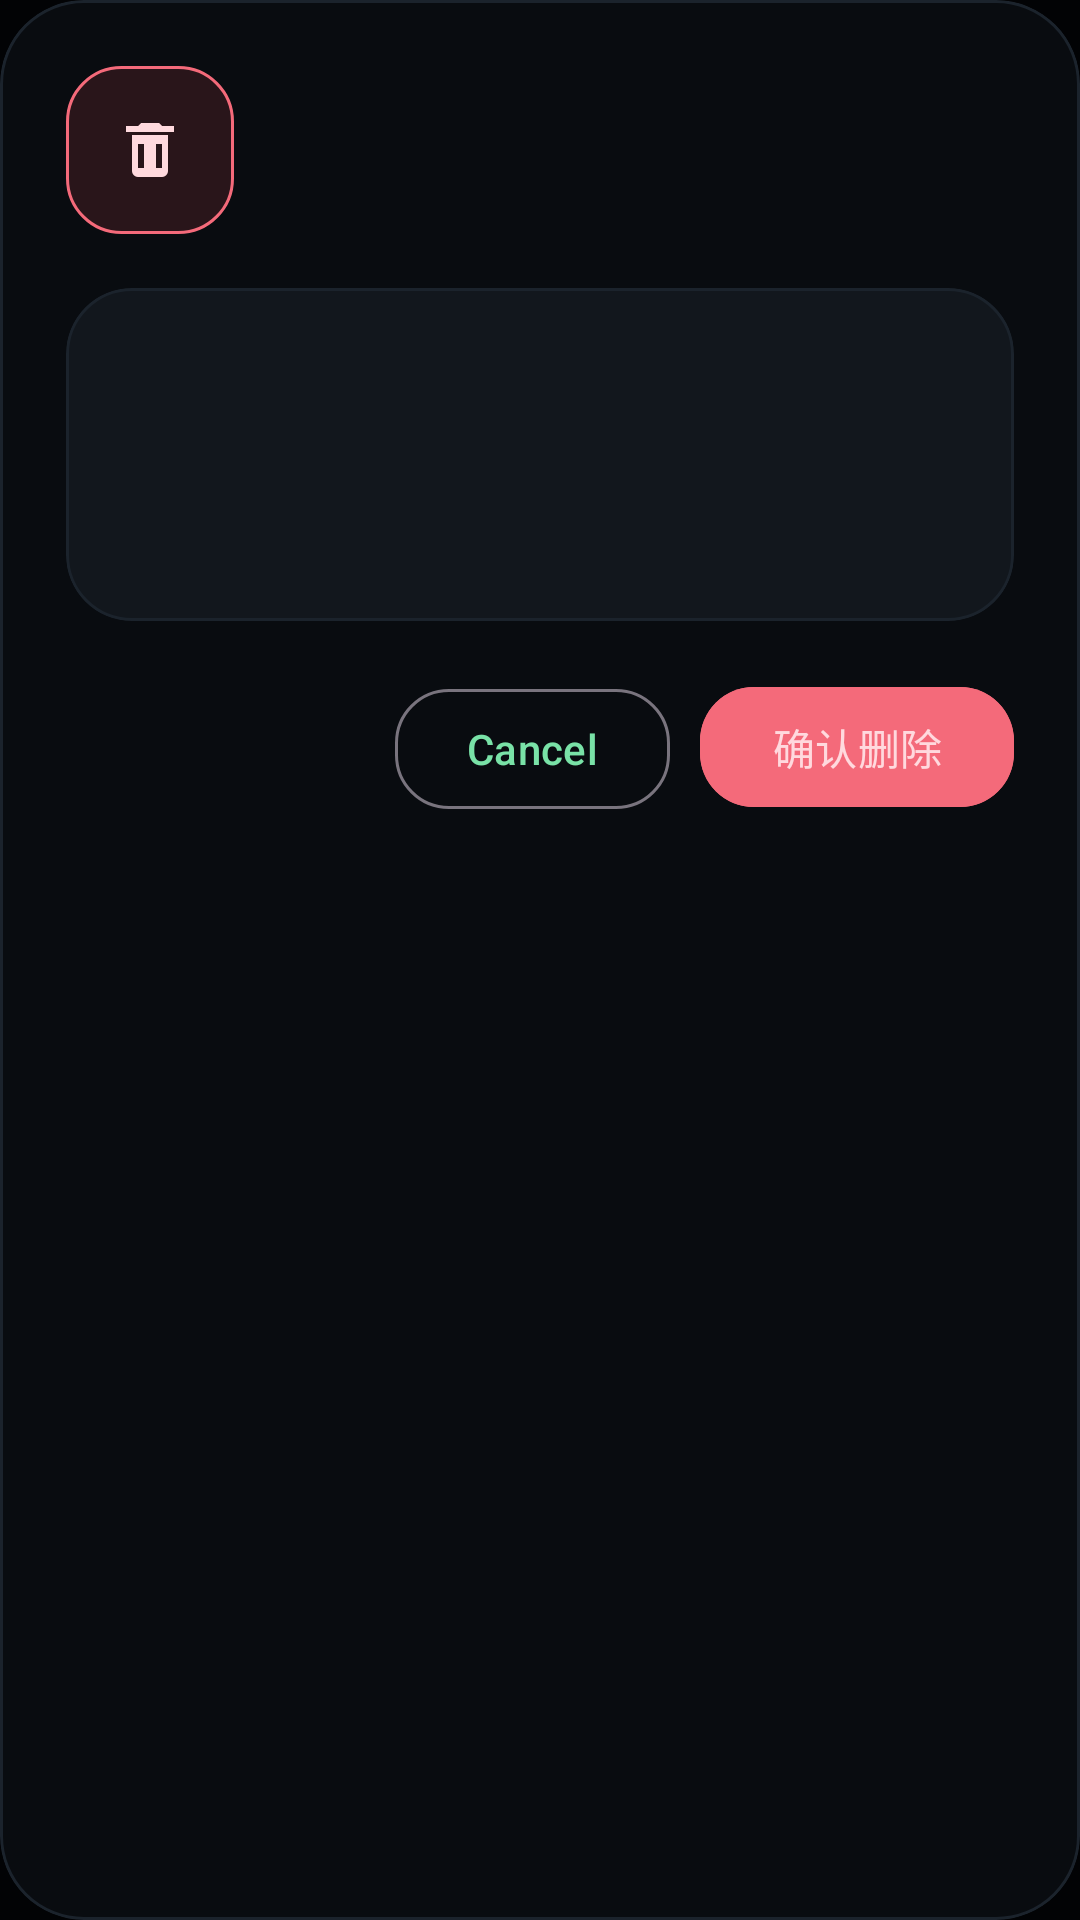

Icon bounding boxes for this 1080×1920 phone screenshot, format (x1, y1, x2, y2):
delete bin: (66, 66, 234, 234)
